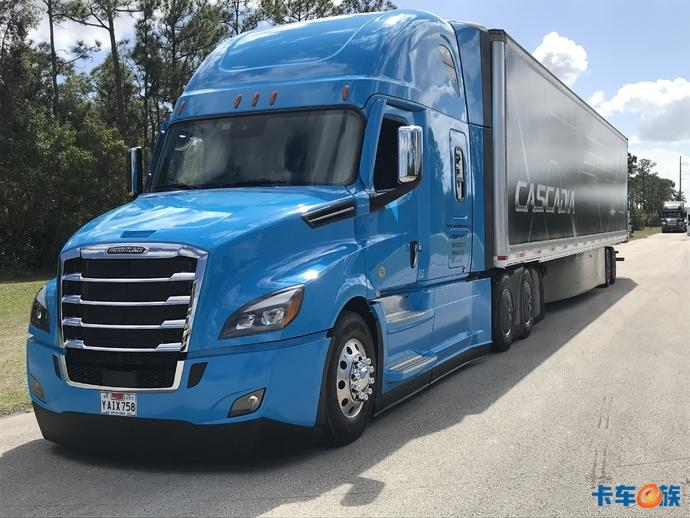卡车: (22, 14, 648, 454)
